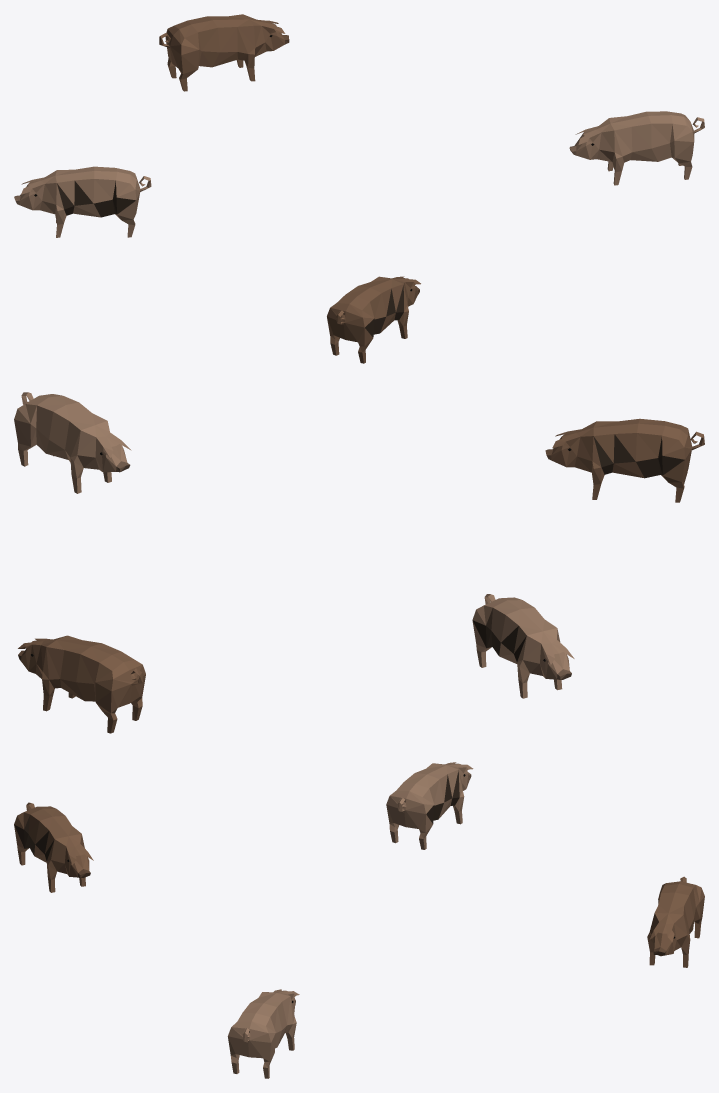
Rendered from pigs1.glb.
3 renders of one model, top to bottom at view 1: azimuth 30°, elevation 25°; view 2: azimuth 150°, elevation 25°; view 3: azimuth 270°, elevation 25°, orthographic. The views are drawn at different scales.
Visible parts, largest first — view 1: pigs1; view 2: pigs1; view 3: pigs1.
Boxes of the visible parts, <box> form: pigs1: <box>14,14,704,363</box>; pigs1: <box>14,392,704,733</box>; pigs1: <box>14,762,704,1078</box>.
Size of the model in its own units: 44.33 by 4.29 by 46.01.
